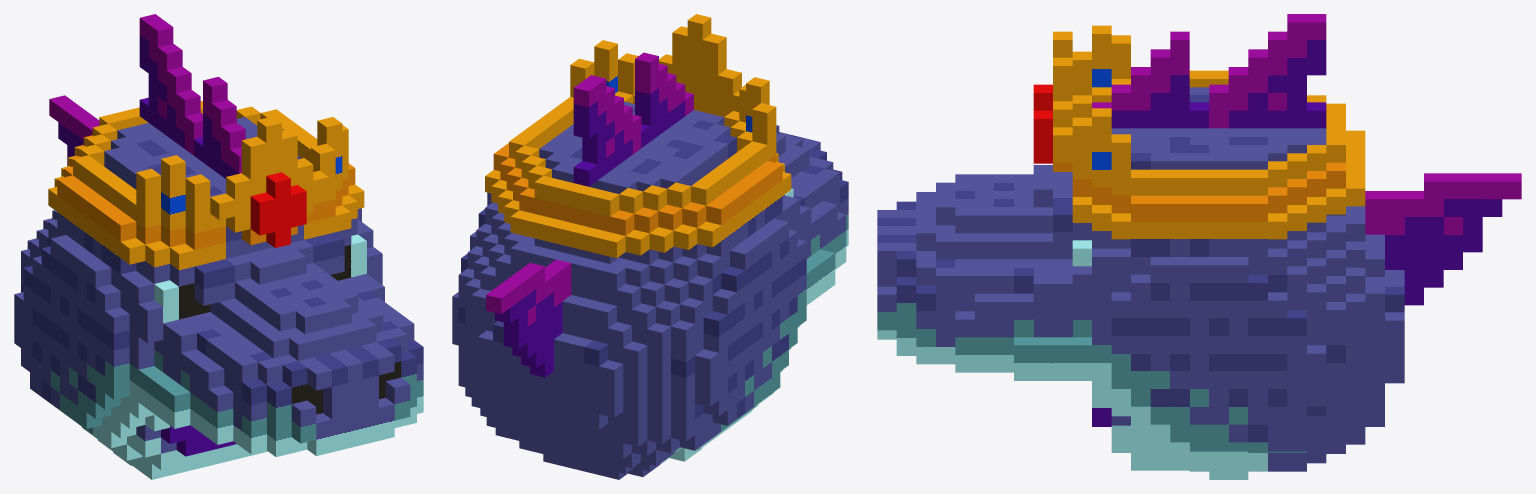
The model's file is queen crown_red glasses.gltf.
3 views of the same model, side by side, from view 1: azimuth 30°, elevation 25°; view 2: azimuth 150°, elevation 25°; view 3: azimuth 270°, elevation 25° (orthographic). The views are drawn at different scales.
Parts seen in each view (by area): view 1: C35_H_QueenC_RedG_RBSpec-Mesh; view 2: C35_H_QueenC_RedG_RBSpec-Mesh; view 3: C35_H_QueenC_RedG_RBSpec-Mesh.
Boxes of the visible parts, bbox=[...] form: C35_H_QueenC_RedG_RBSpec-Mesh: bbox=[14, 14, 423, 479]; C35_H_QueenC_RedG_RBSpec-Mesh: bbox=[452, 14, 848, 479]; C35_H_QueenC_RedG_RBSpec-Mesh: bbox=[877, 14, 1521, 479].
Bounding box in the file's own units: 17 × 24 × 33.
Materials: 1 (1 with a texture image).
